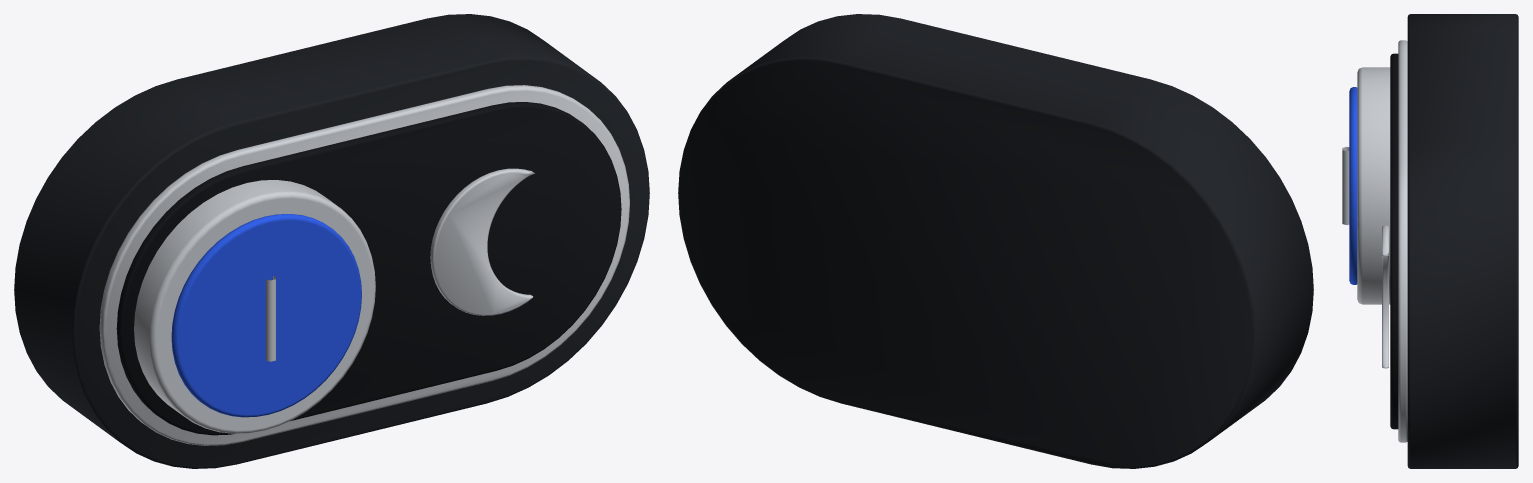
Rendered from appearance.glb.
The picture shows the model from 3 angles, left to right: view 1: azimuth 30°, elevation 25°; view 2: azimuth 150°, elevation 25°; view 3: azimuth 270°, elevation 25°; orthographic projection. The views are drawn at different scales.
Parts seen in each view (by area): view 1: SM_AppearanceShell, SM_AppearanceTrack, SM_AppearanceThumbFace, SM_ModelGeometry_LiftSilver, SM_AppearanceThumbSlide_LiftSilver; view 2: SM_AppearanceShell; view 3: SM_AppearanceShell, SM_AppearanceThumbSlide_LiftSilver, SM_ModelGeometry_LiftSilver, SM_AppearanceTrack, SM_AppearanceThumbFace.
Part boxes in pixels (x1=…): SM_AppearanceShell: x1=14, y1=14, x2=649, y2=468; SM_AppearanceTrack: x1=116, y1=102, x2=621, y2=435; SM_AppearanceThumbFace: x1=171, y1=214, x2=361, y2=417; SM_ModelGeometry_LiftSilver: x1=99, y1=85, x2=629, y2=445; SM_AppearanceThumbSlide_LiftSilver: x1=134, y1=180, x2=375, y2=433; SM_AppearanceShell: x1=678, y1=14, x2=1313, y2=468; SM_AppearanceShell: x1=1407, y1=14, x2=1518, y2=468; SM_AppearanceThumbSlide_LiftSilver: x1=1342, y1=67, x2=1390, y2=304; SM_ModelGeometry_LiftSilver: x1=1382, y1=40, x2=1407, y2=442; SM_AppearanceTrack: x1=1390, y1=53, x2=1398, y2=429; SM_AppearanceThumbFace: x1=1349, y1=87, x2=1357, y2=284.
Bounding box in the file's own units: 2 × 1.13 × 0.5804.
